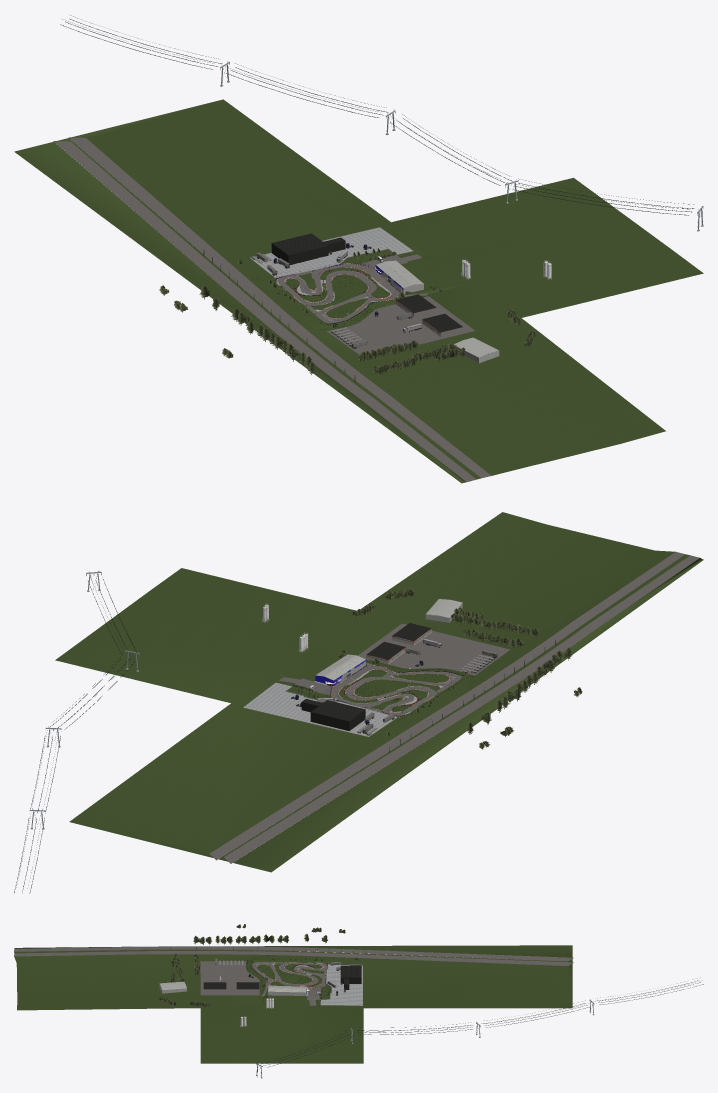
File: track.glb
The picture shows the model from 3 angles, top to bottom: view 1: azimuth 30°, elevation 25°; view 2: azimuth 150°, elevation 25°; view 3: azimuth 270°, elevation 25°; orthographic projection. The views are drawn at different scales.
Parts seen in each view (by area): view 1: track; view 2: track; view 3: track.
Part boxes in pixels (bbox=[...]): track: bbox=[14, 15, 703, 483]; track: bbox=[14, 512, 703, 893]; track: bbox=[14, 924, 703, 1078].
Bounding box in the file's own units: 5556 × 300 × 10695.
92 materials, 85 textured.
